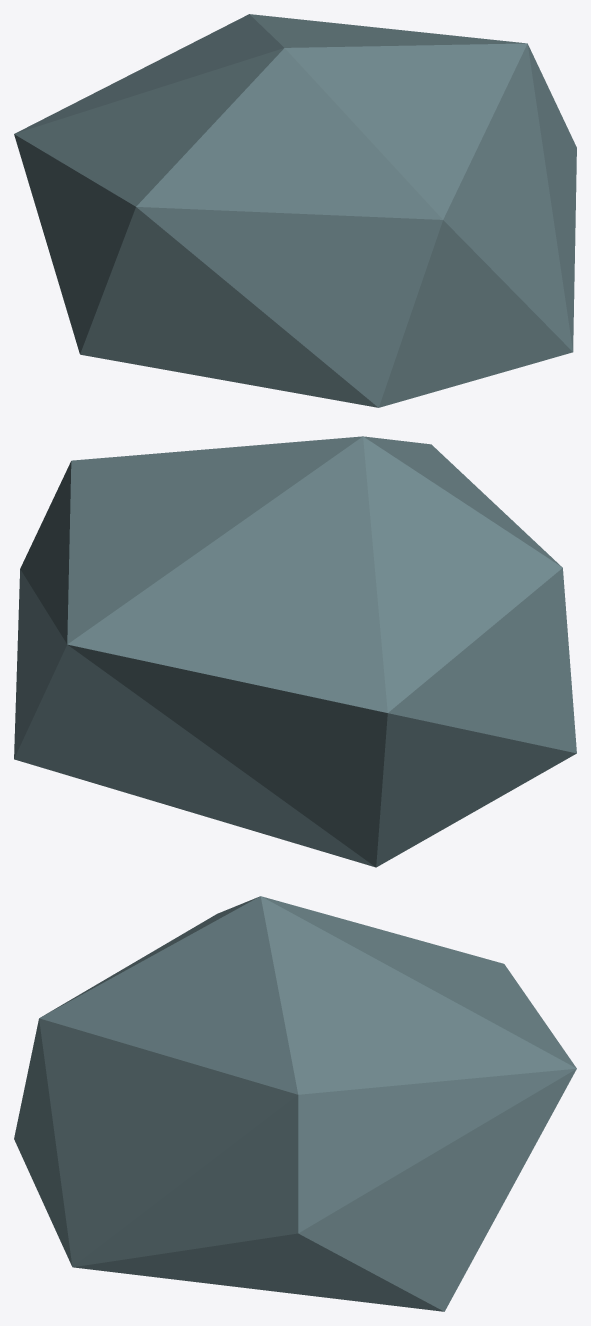
Rendered from galka.fbx.
3 views of the same model, one above another, from view 1: azimuth 30°, elevation 25°; view 2: azimuth 150°, elevation 25°; view 3: azimuth 270°, elevation 25° (orthographic). The views are drawn at different scales.
Visible parts, largest first — view 1: Icosphere; view 2: Icosphere; view 3: Icosphere.
Part boxes in pixels (left/top/right/bottom): Icosphere: left=14, top=14, right=576, bottom=407; Icosphere: left=14, top=436, right=576, bottom=867; Icosphere: left=14, top=896, right=576, bottom=1311.
Bounding box in the file's own units: 96.02 × 56.19 × 91.75.
